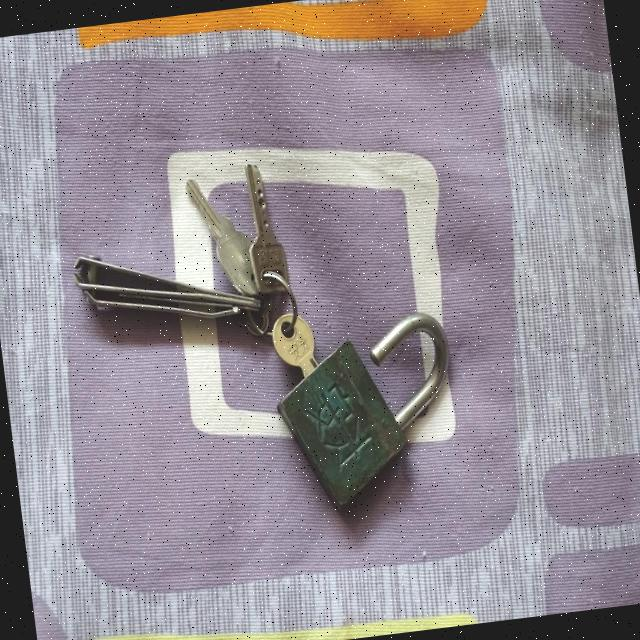Frontdoor keys: (178, 161, 262, 290), (237, 158, 300, 288), (268, 300, 328, 384)
